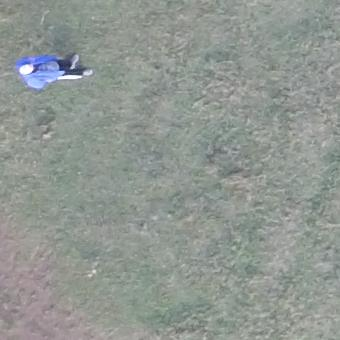human: (15, 51, 95, 91)
